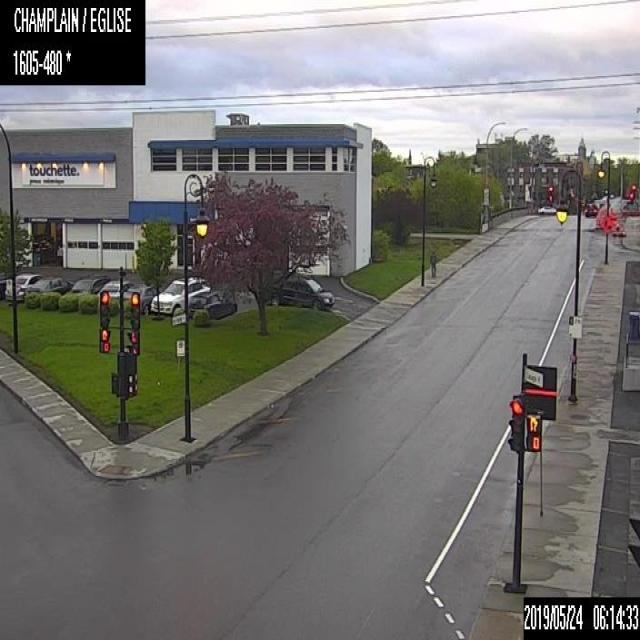construction: (601, 216, 613, 233)
pedestrian: (429, 247, 436, 276)
vehicle: (268, 271, 334, 307), (150, 275, 210, 314), (188, 290, 237, 320), (4, 271, 44, 301), (25, 274, 73, 298), (123, 284, 161, 313), (70, 273, 110, 294), (96, 278, 134, 297), (0, 267, 16, 297), (537, 204, 557, 214), (584, 202, 597, 216)
